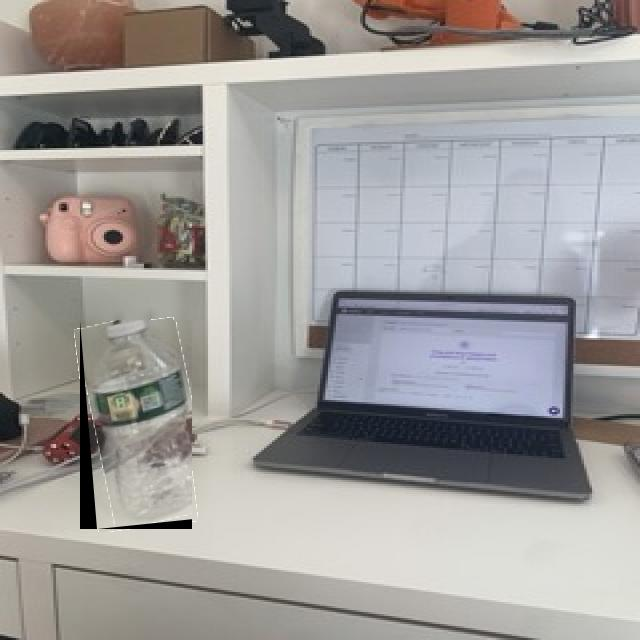water_bottle: (80, 320, 192, 529)
